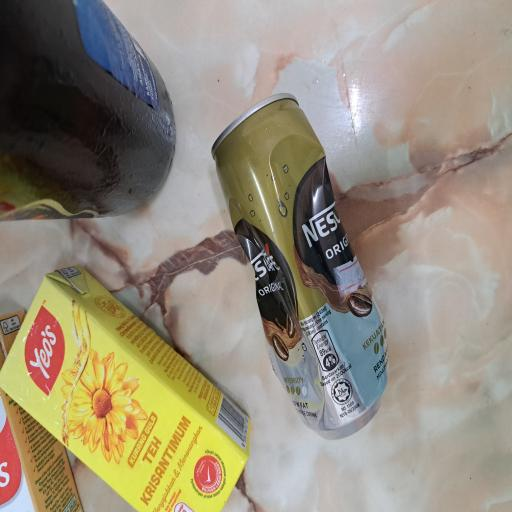can: (56, 279, 316, 512), (217, 0, 383, 232)
drink carton: (0, 0, 185, 334), (0, 0, 155, 107), (66, 209, 70, 211)
